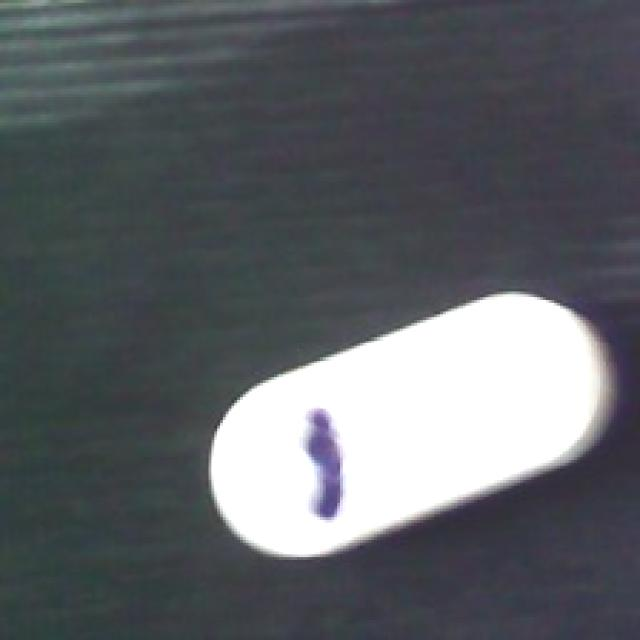defected: (203, 288, 628, 566)
